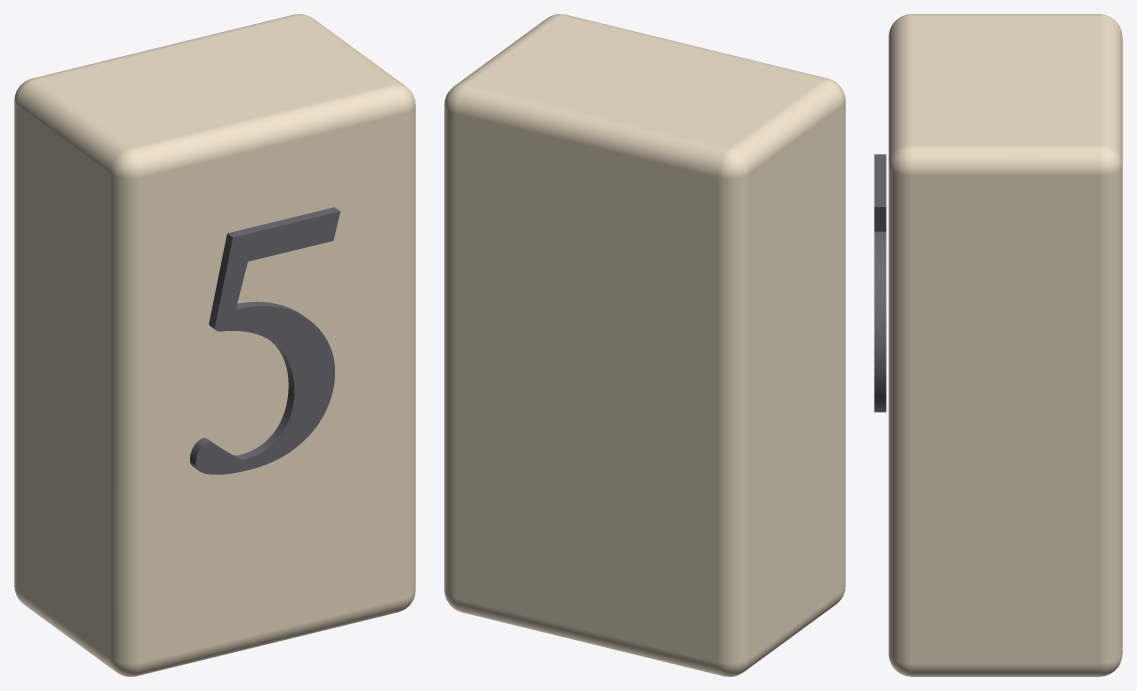
File: pin_5.gltf
The picture shows the model from 3 angles, left to right: view 1: azimuth 30°, elevation 25°; view 2: azimuth 150°, elevation 25°; view 3: azimuth 270°, elevation 25°; orthographic projection.
Parts seen in each view (by area): view 1: White, Black; view 2: White; view 3: White, Black.
Part boxes in pixels (<box>): White: <box>14,14,415,676</box>; Black: <box>190,207,340,474</box>; White: <box>444,14,845,676</box>; White: <box>888,14,1122,676</box>; Black: <box>874,154,886,412</box>.
Size of the model in its own units: 1.5 by 2.5 by 1.06.
